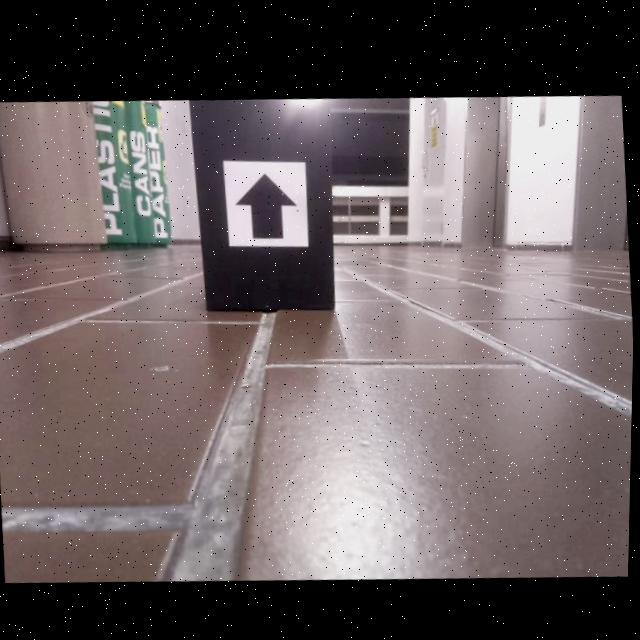UP: (235, 168, 299, 235)
